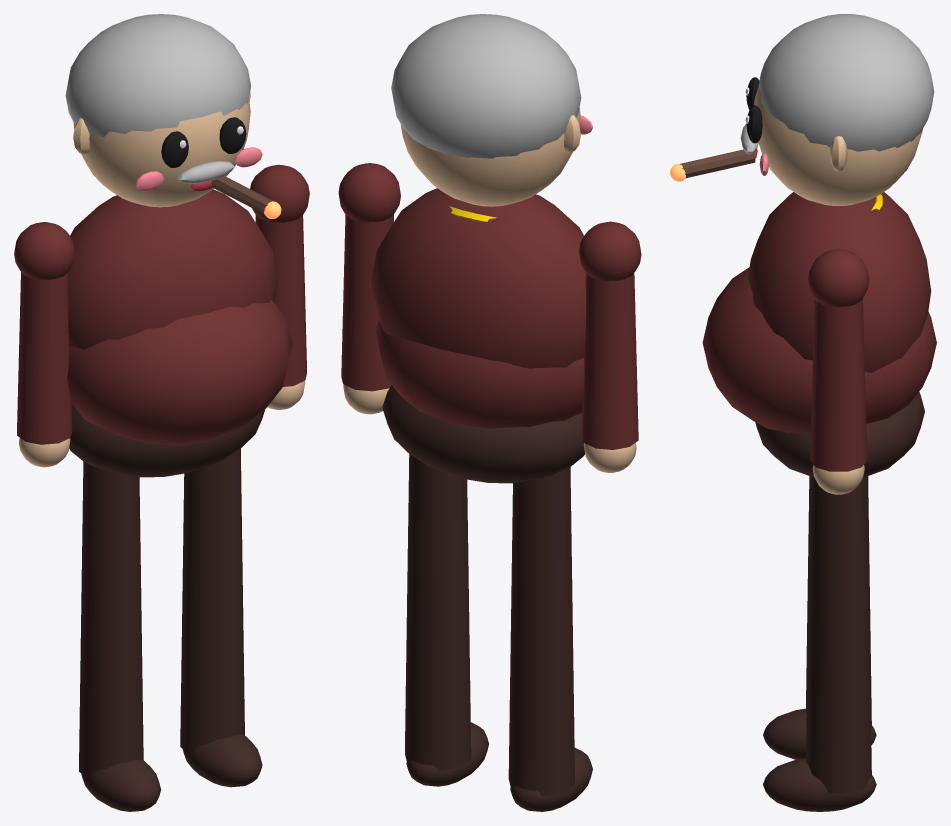
Rendered from cameos_raphael.glb.
The picture shows the model from 3 angles, left to right: view 1: azimuth 30°, elevation 25°; view 2: azimuth 150°, elevation 25°; view 3: azimuth 270°, elevation 25°; orthographic projection. The views are drawn at different scales.
Parts seen in each view (by area): view 1: Body.017, Leg_R.017, Leg_L.017, Arm_R.017, Arm_L.017, CameosRaphaelExtra; view 2: Body.017, Leg_R.017, Leg_L.017, Arm_R.017, Arm_L.017; view 3: Body.017, Leg_L.017, Arm_L.017, Leg_R.017, CameosRaphaelExtra.
Boxes of the visible parts, x1,y1,x2,y2 form: Body.017: [65, 14, 292, 477]; Leg_R.017: [79, 461, 160, 811]; Leg_L.017: [180, 448, 262, 787]; Arm_R.017: [14, 222, 74, 467]; Arm_L.017: [250, 164, 309, 409]; CameosRaphaelExtra: [211, 176, 281, 218]; Body.017: [371, 14, 592, 483]; Leg_R.017: [508, 467, 592, 811]; Leg_L.017: [405, 454, 488, 786]; Arm_R.017: [579, 221, 641, 472]; Arm_L.017: [338, 163, 400, 414]; Body.017: [702, 14, 936, 477]; Leg_L.017: [763, 476, 876, 811]; Arm_L.017: [808, 249, 869, 494]; Leg_R.017: [763, 476, 876, 759]; CameosRaphaelExtra: [670, 149, 755, 181].
Bounding box in the file's own units: 0.702 × 1.76 × 0.5627.
